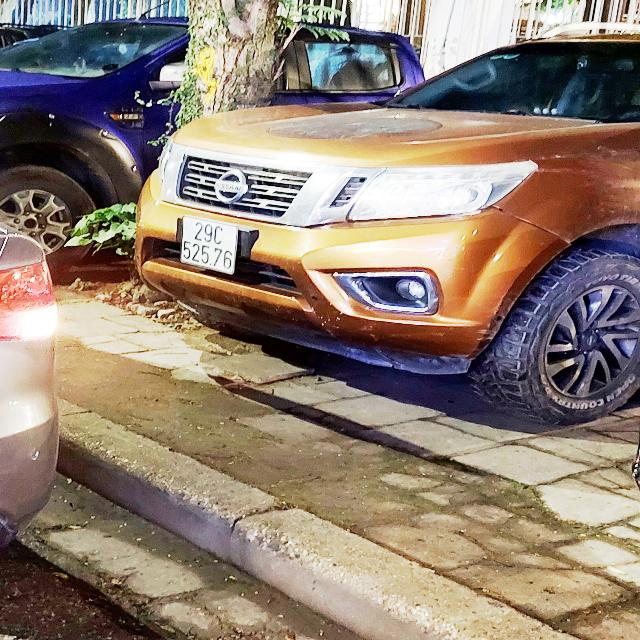license_plate: (177, 212, 245, 279)
